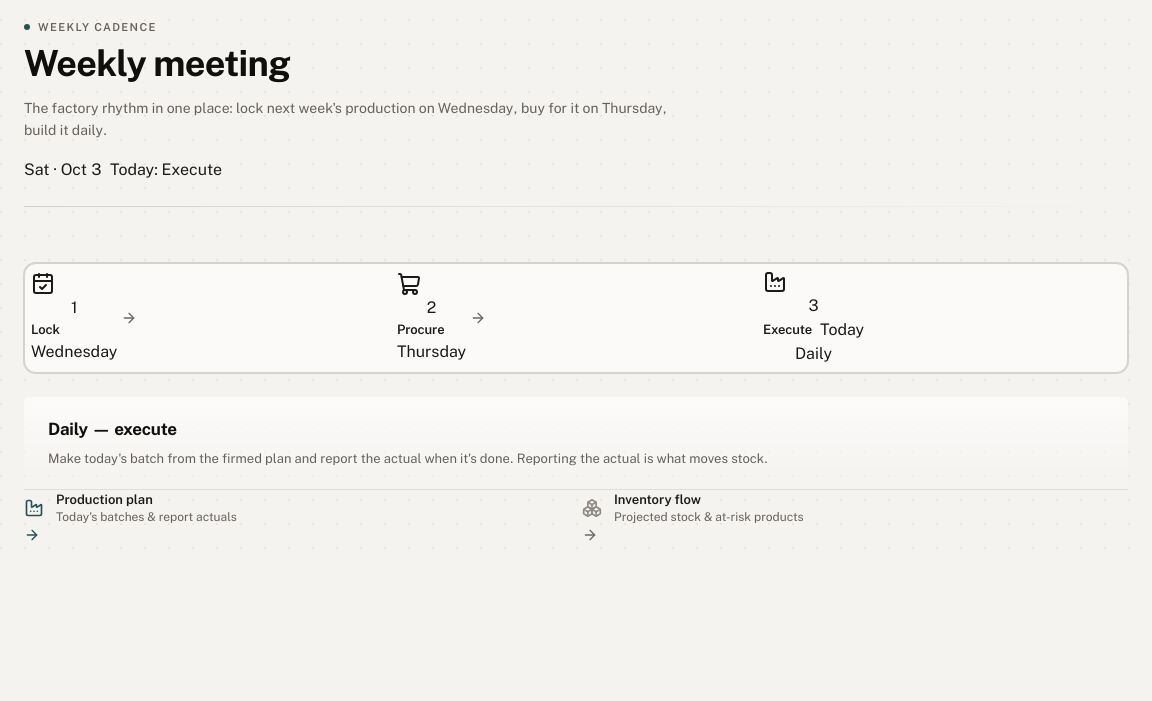
weekly-meeting cockpit — commitment disclosure › expands and collapses the '+N more' product list
The width and height of the screenshot is (1152, 701).
Click the button with aria-label "Lock — Wednesday" at (74, 318), box top-left (31, 272), bottom-right (117, 364)
(page scrolled)
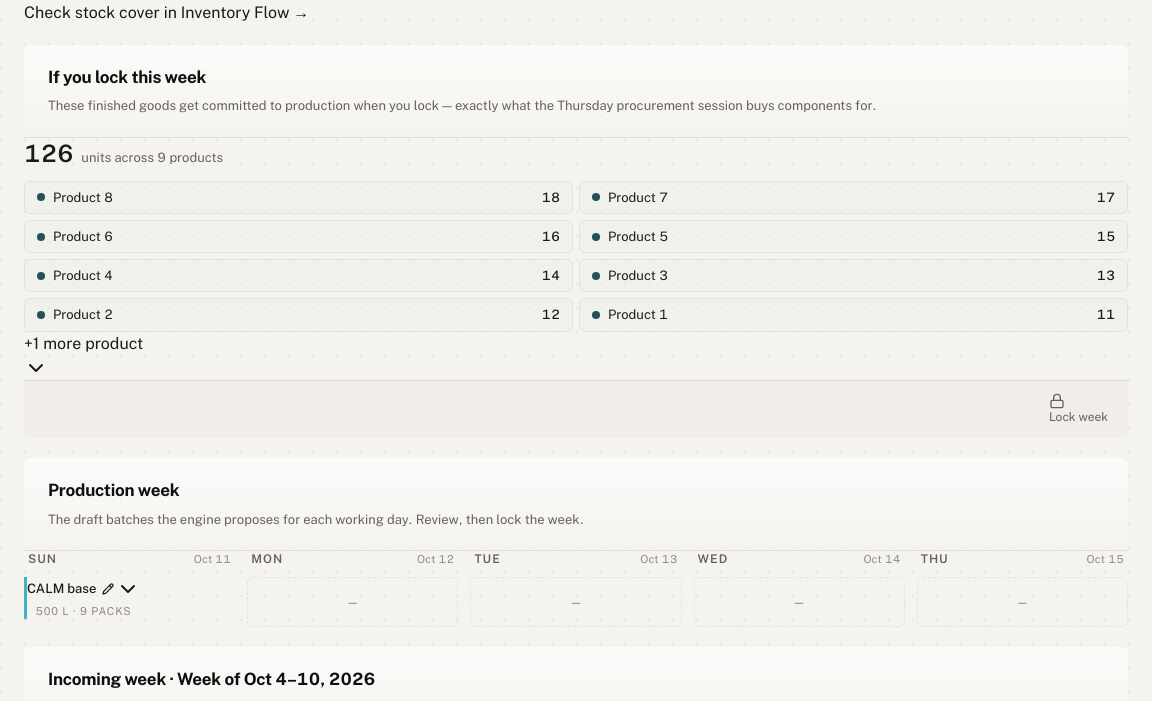
Expected: the text "Product 0" is not shown
Click the button "+1 more product" at (84, 356), box top-left (24, 332), bottom-right (143, 380)
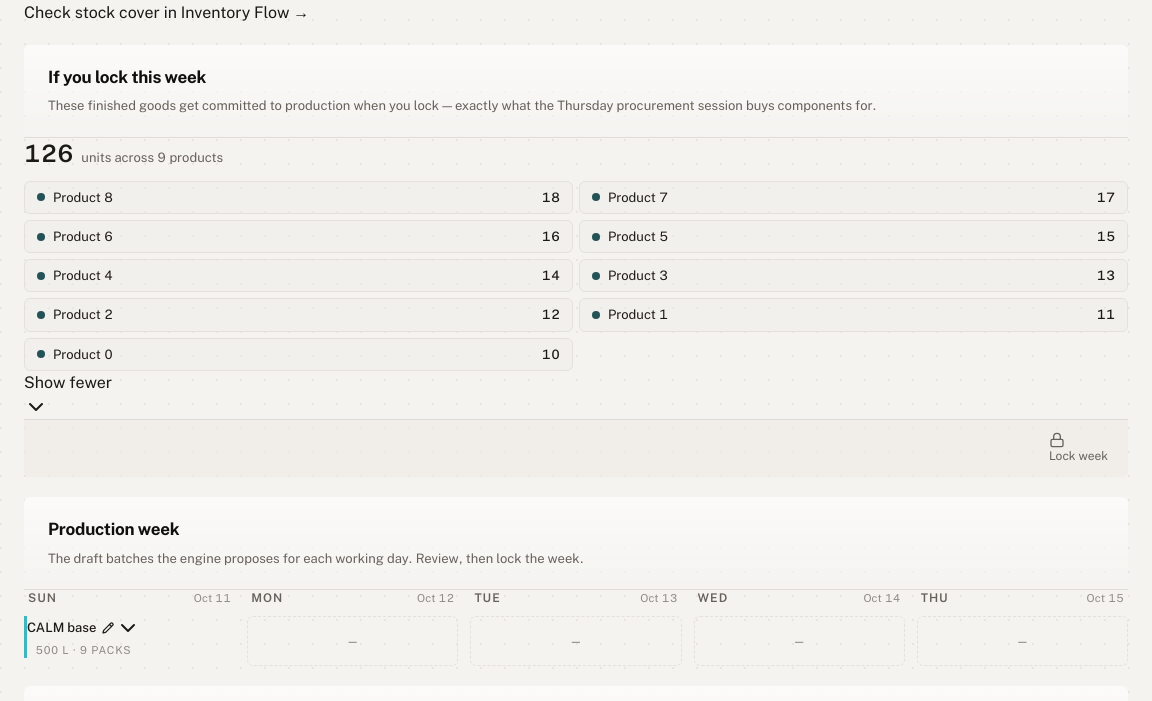
Now the button named "more product" is expanded
Now the text "Product 0" is shown, box top-left (53, 345), bottom-right (113, 364)
Click the button "Show fewer" at (68, 395), box top-left (24, 371), bottom-right (112, 419)
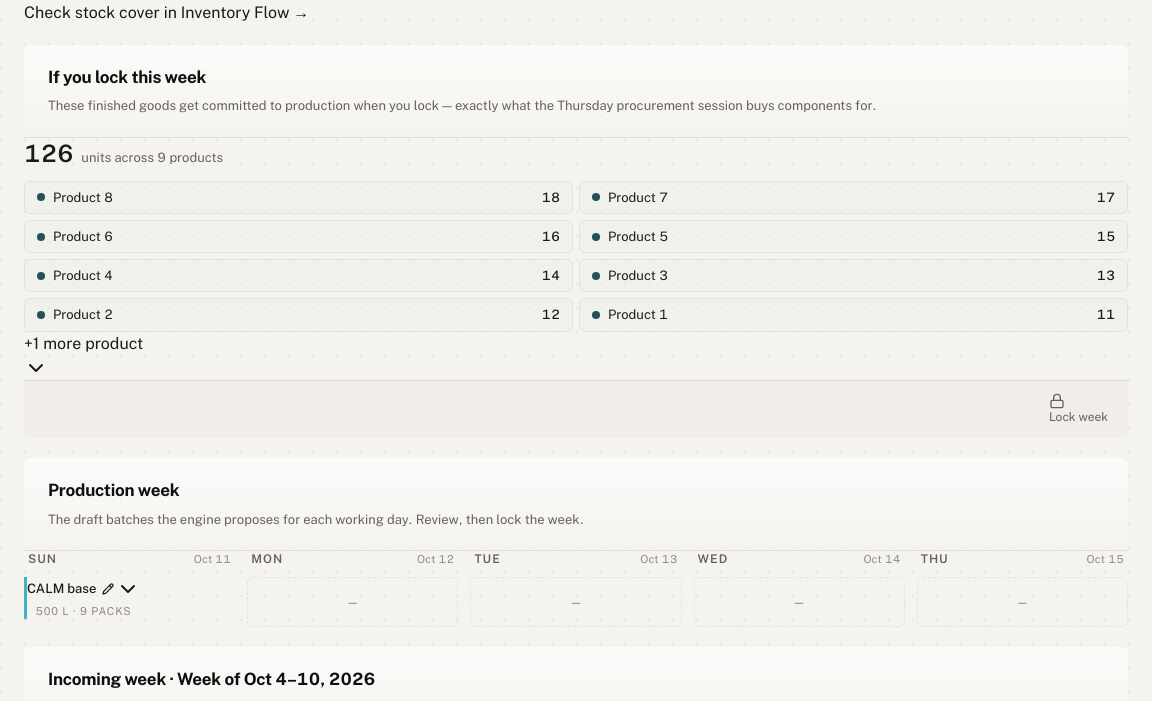
Now the text "Product 0" is gone
